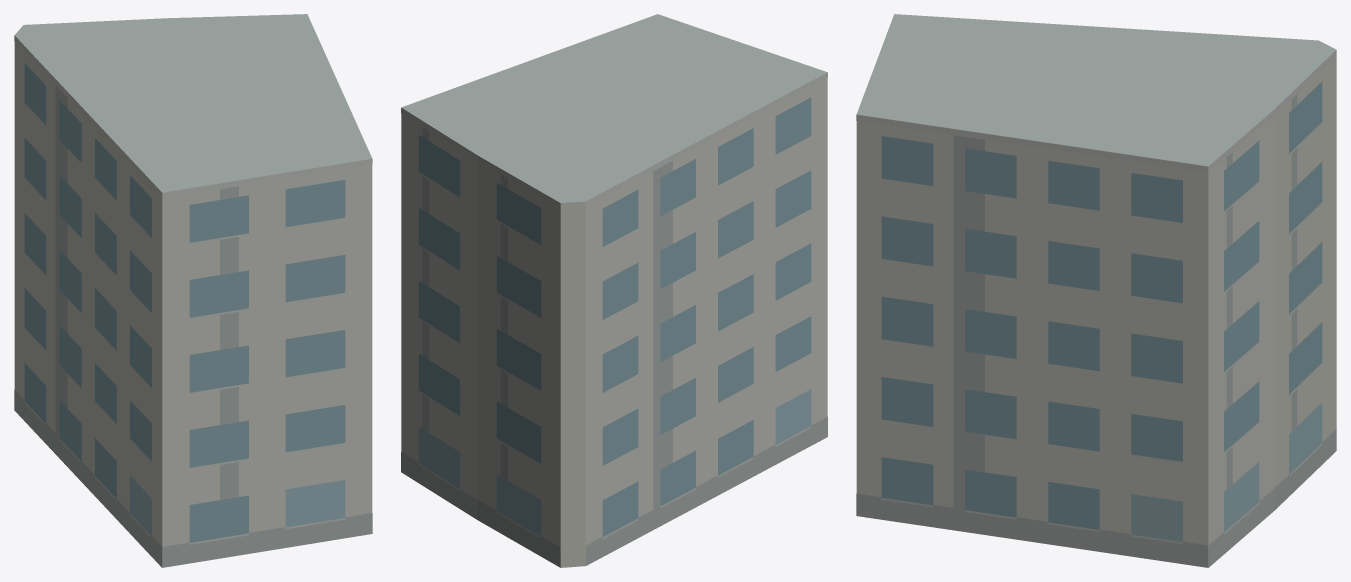
File: survey-upis-32503585.glb
The picture shows the model from 3 angles, left to right: view 1: azimuth 30°, elevation 25°; view 2: azimuth 150°, elevation 25°; view 3: azimuth 270°, elevation 25°; orthographic projection. The views are drawn at different scales.
Parts seen in each view (by area): view 1: survey-upis-32503585.tmp; view 2: survey-upis-32503585.tmp; view 3: survey-upis-32503585.tmp.
Boxes of the visible parts, <box> form: survey-upis-32503585.tmp: <box>14,14,372,567</box>; survey-upis-32503585.tmp: <box>401,14,827,567</box>; survey-upis-32503585.tmp: <box>856,14,1336,567</box>.
Bounding box in the file's own units: 12.43 × 15.25 × 16.54.
